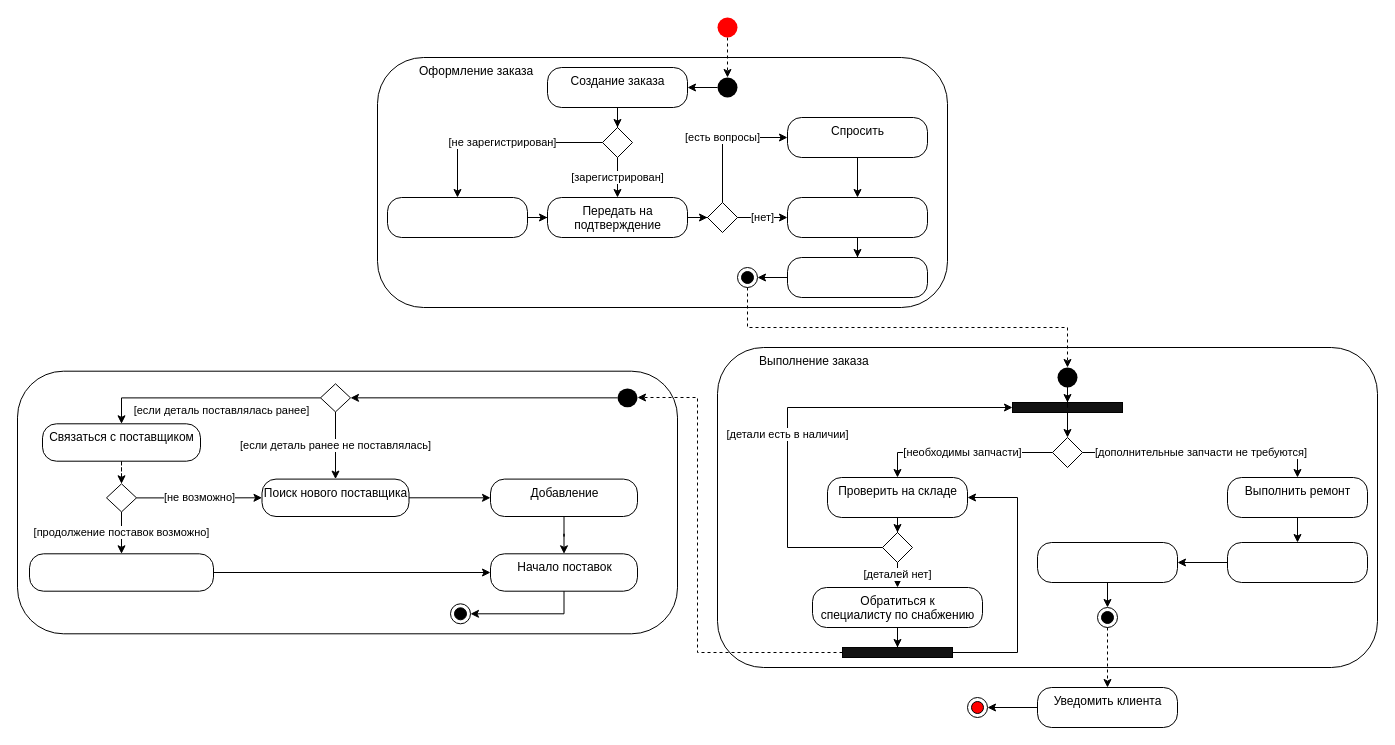
This 1395x745 diagram has some shape labels left out. The shapes that lost their labels are listed below. From the top down, each one's box as (x1, y1, x2, y2) in pixels, then its label:
(386, 196, 528, 238): Зарегистрировать
(786, 196, 928, 238): Выбрать мастера
(786, 256, 928, 298): Подтвердить
(16, 370, 678, 634): Поиск поставщиков
(28, 553, 214, 591): Внести необходимые изменения
(1036, 542, 1178, 582): Завершить заказ
(1226, 542, 1368, 582): Задокументировать
